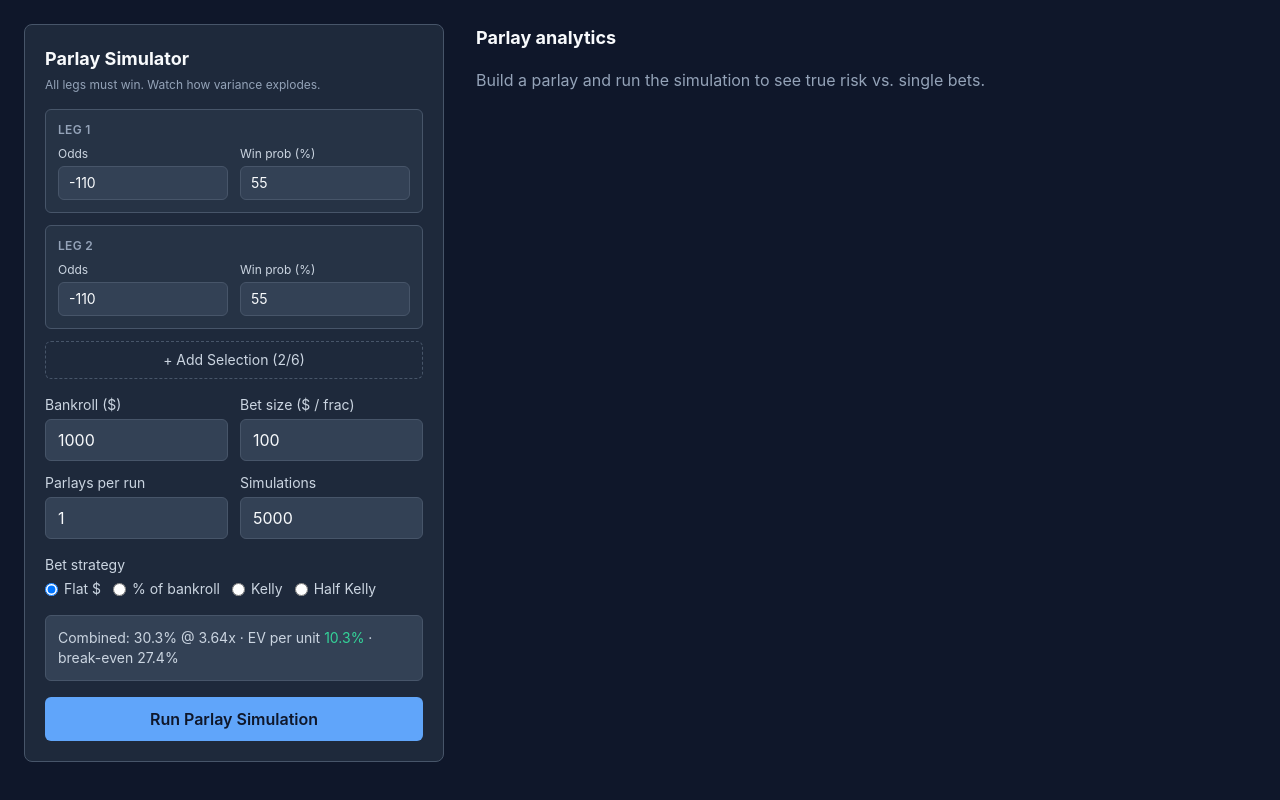
ParlaySimulator page › submits all legs with converted probabilities
Click the button "Run Parlay Simulation": (234, 719) [45,697,423,741]
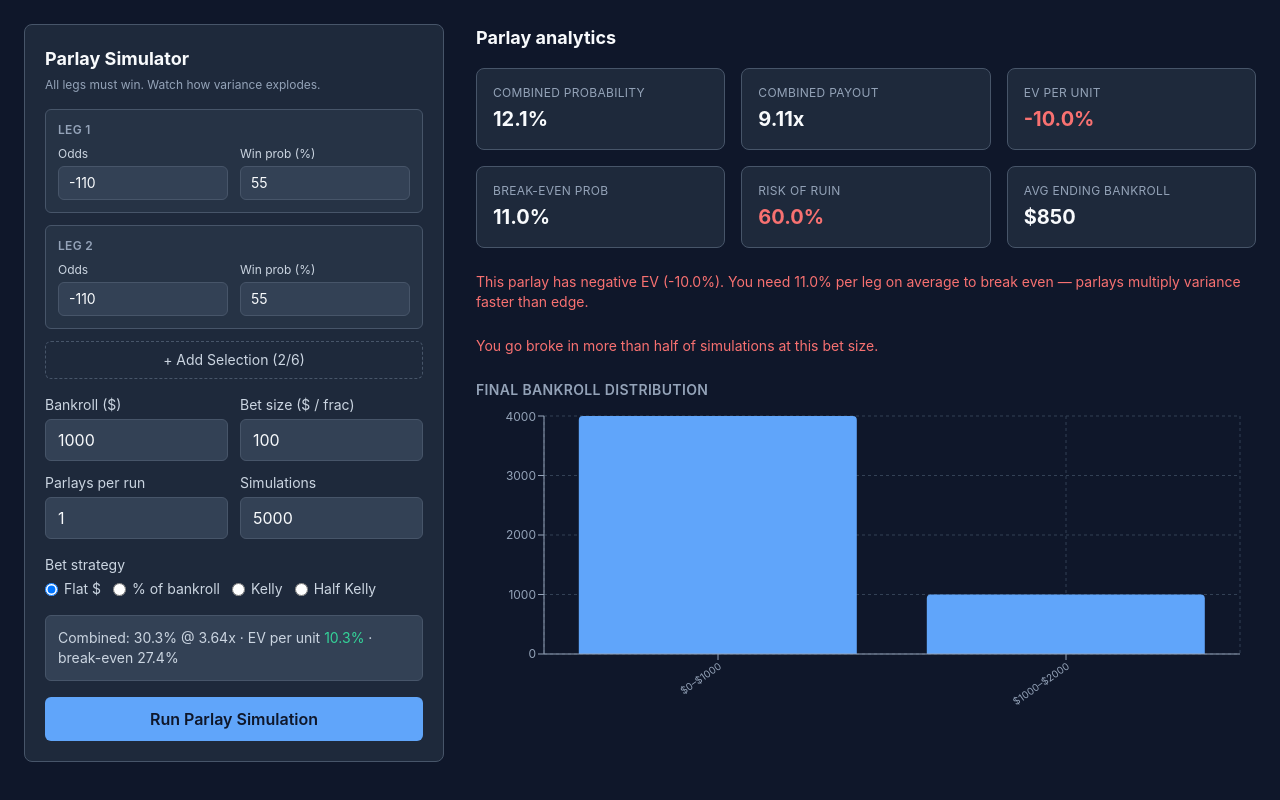
Expected: the element with test id "parlay-results" is shown, [476,68,1256,708]
